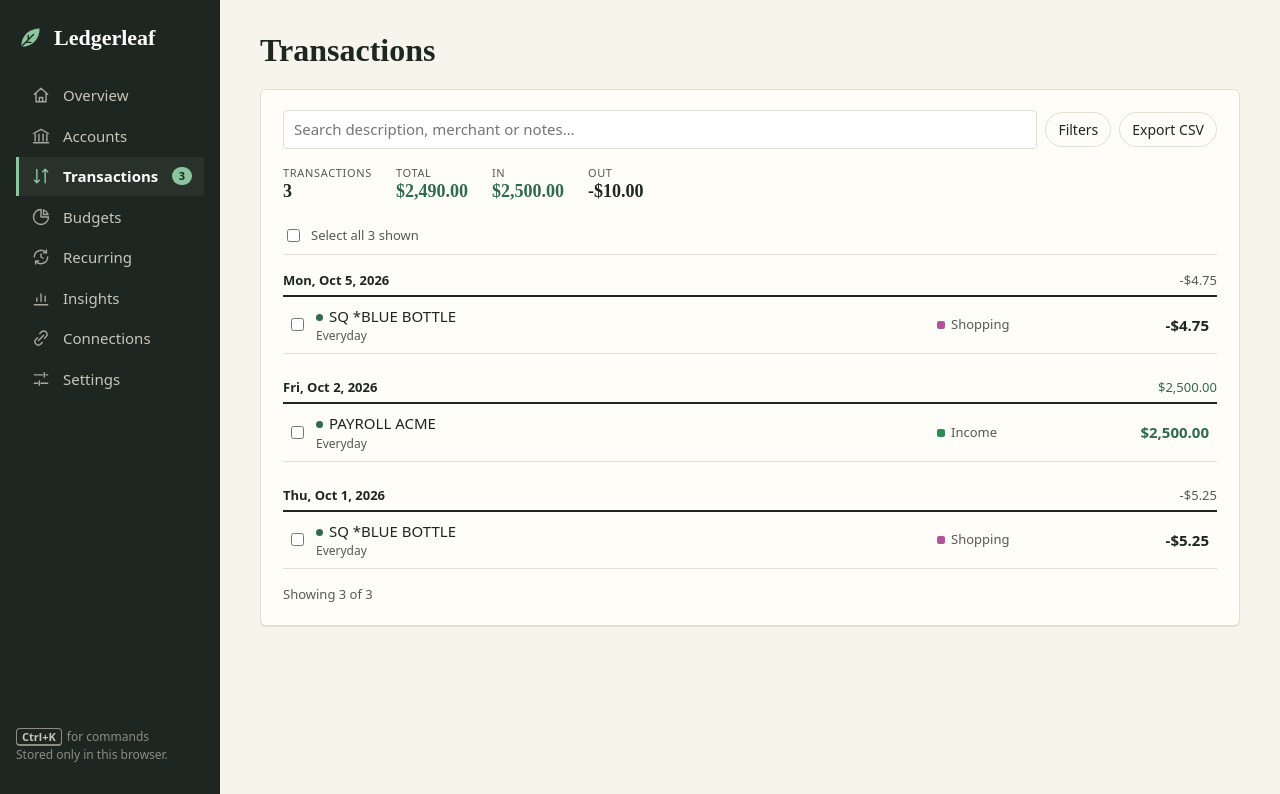
Test: transaction detail editing › a blank merchant falls back to the description
Click the button "PAYROLL ACME Everyday Income $2,500.00": (382, 423) x1=316 y1=404 x2=1217 y2=460
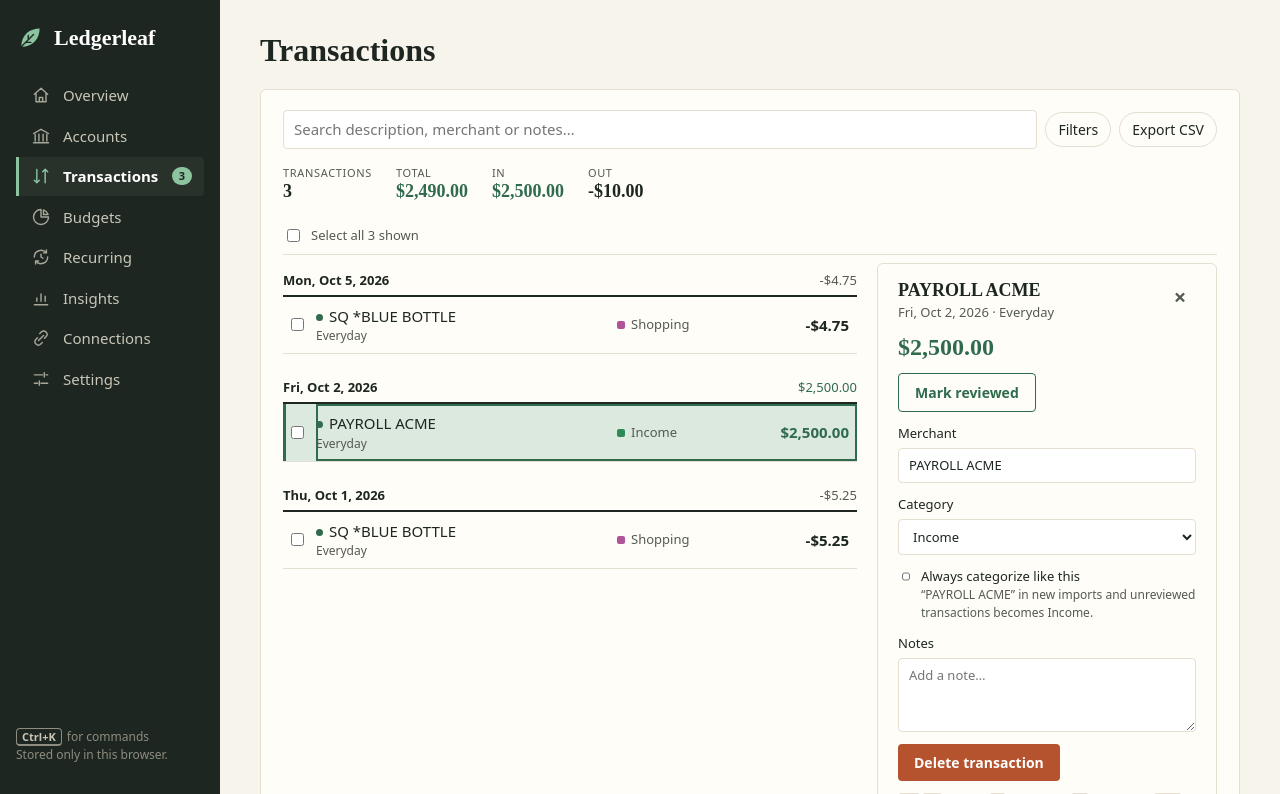
Clear the field labelled "Merchant": (1047, 465) x1=898 y1=448 x2=1196 y2=483
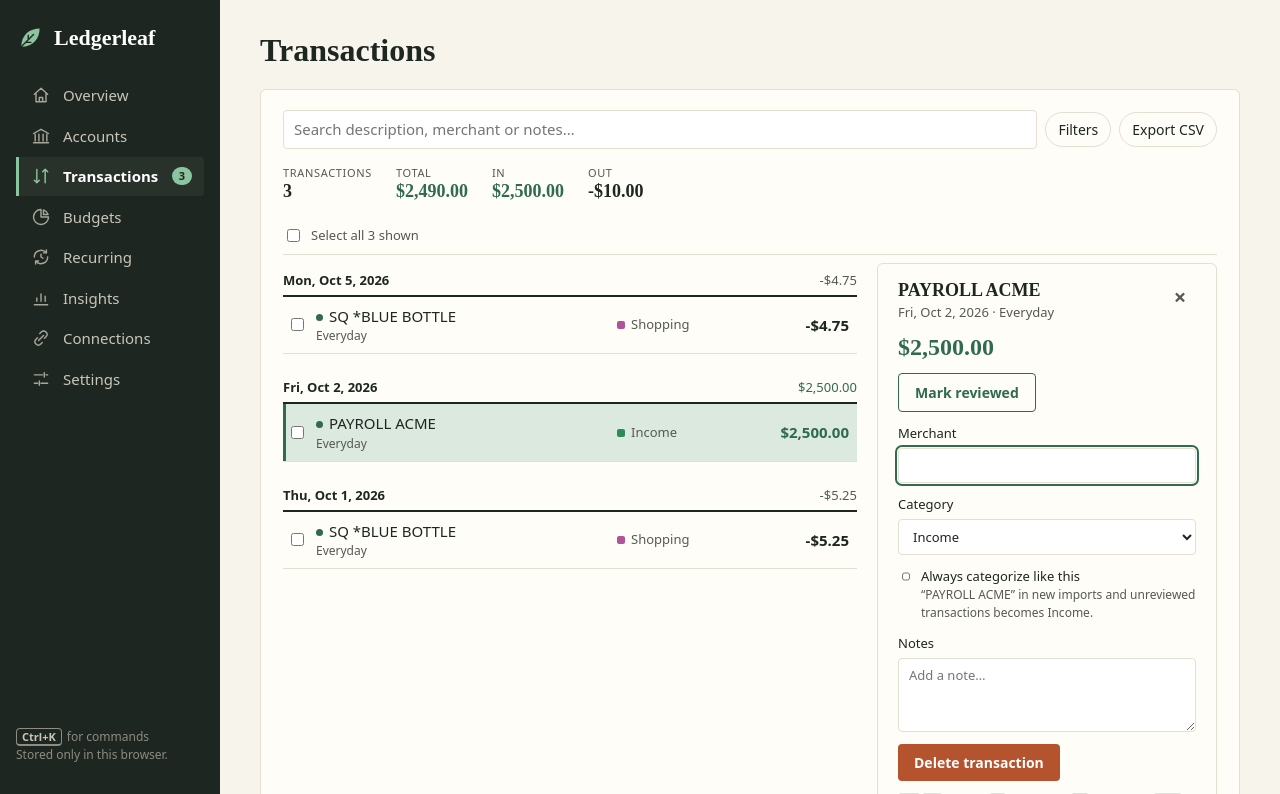
Press Tab
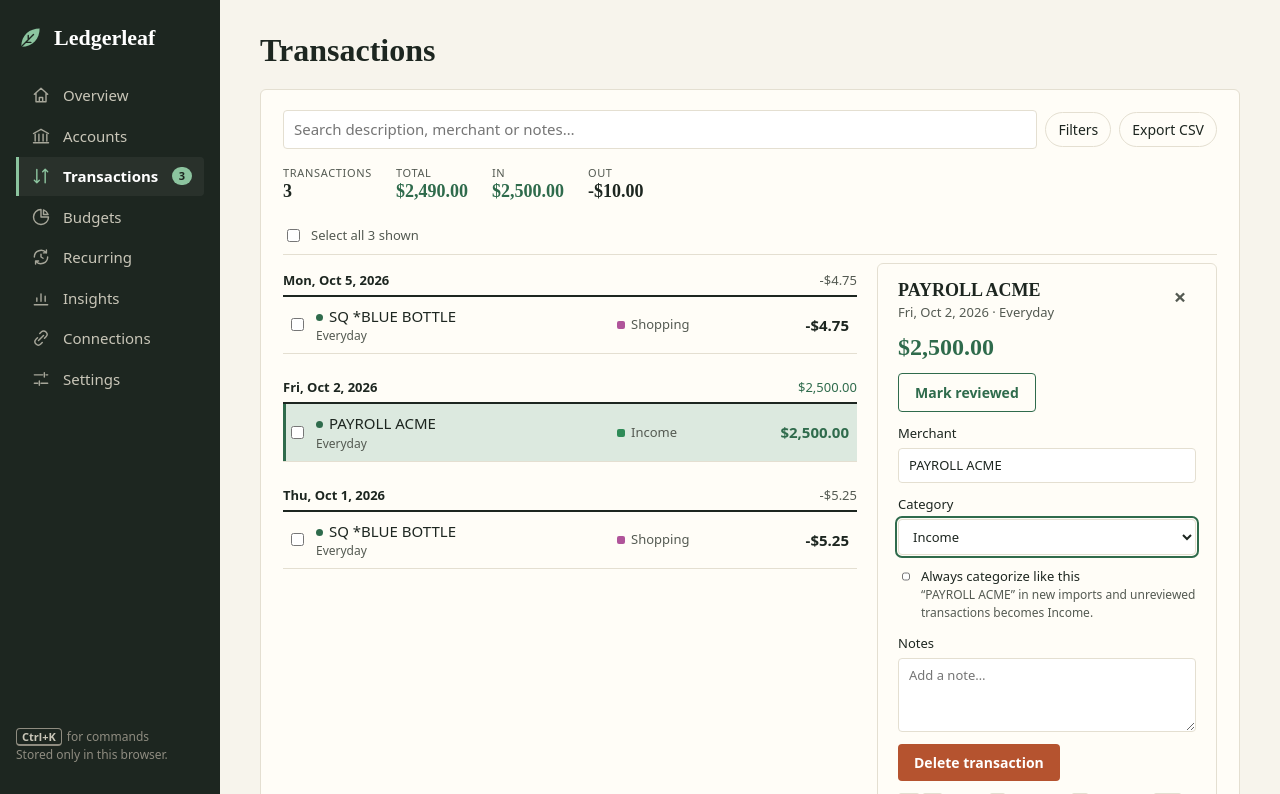
Expected: the field labelled "Merchant" holds "PAYROLL ACME", x1=898 y1=448 x2=1196 y2=483
